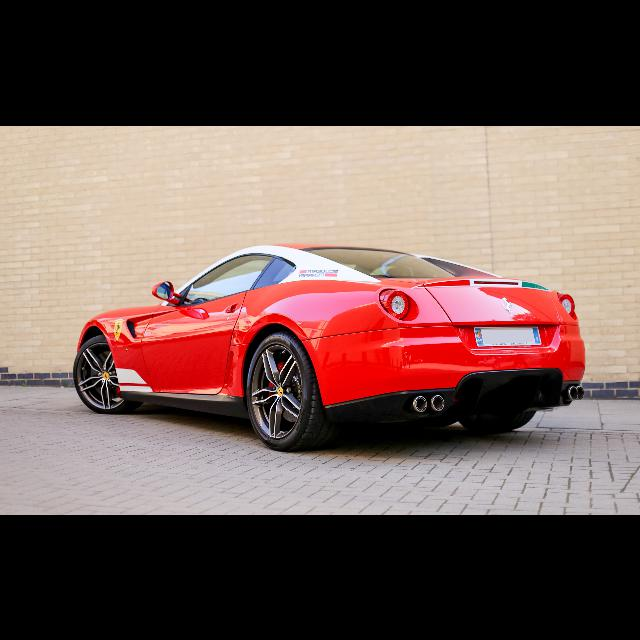cars: (61, 230, 595, 458)
